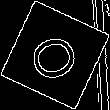O_E: (24, 26, 86, 84)
